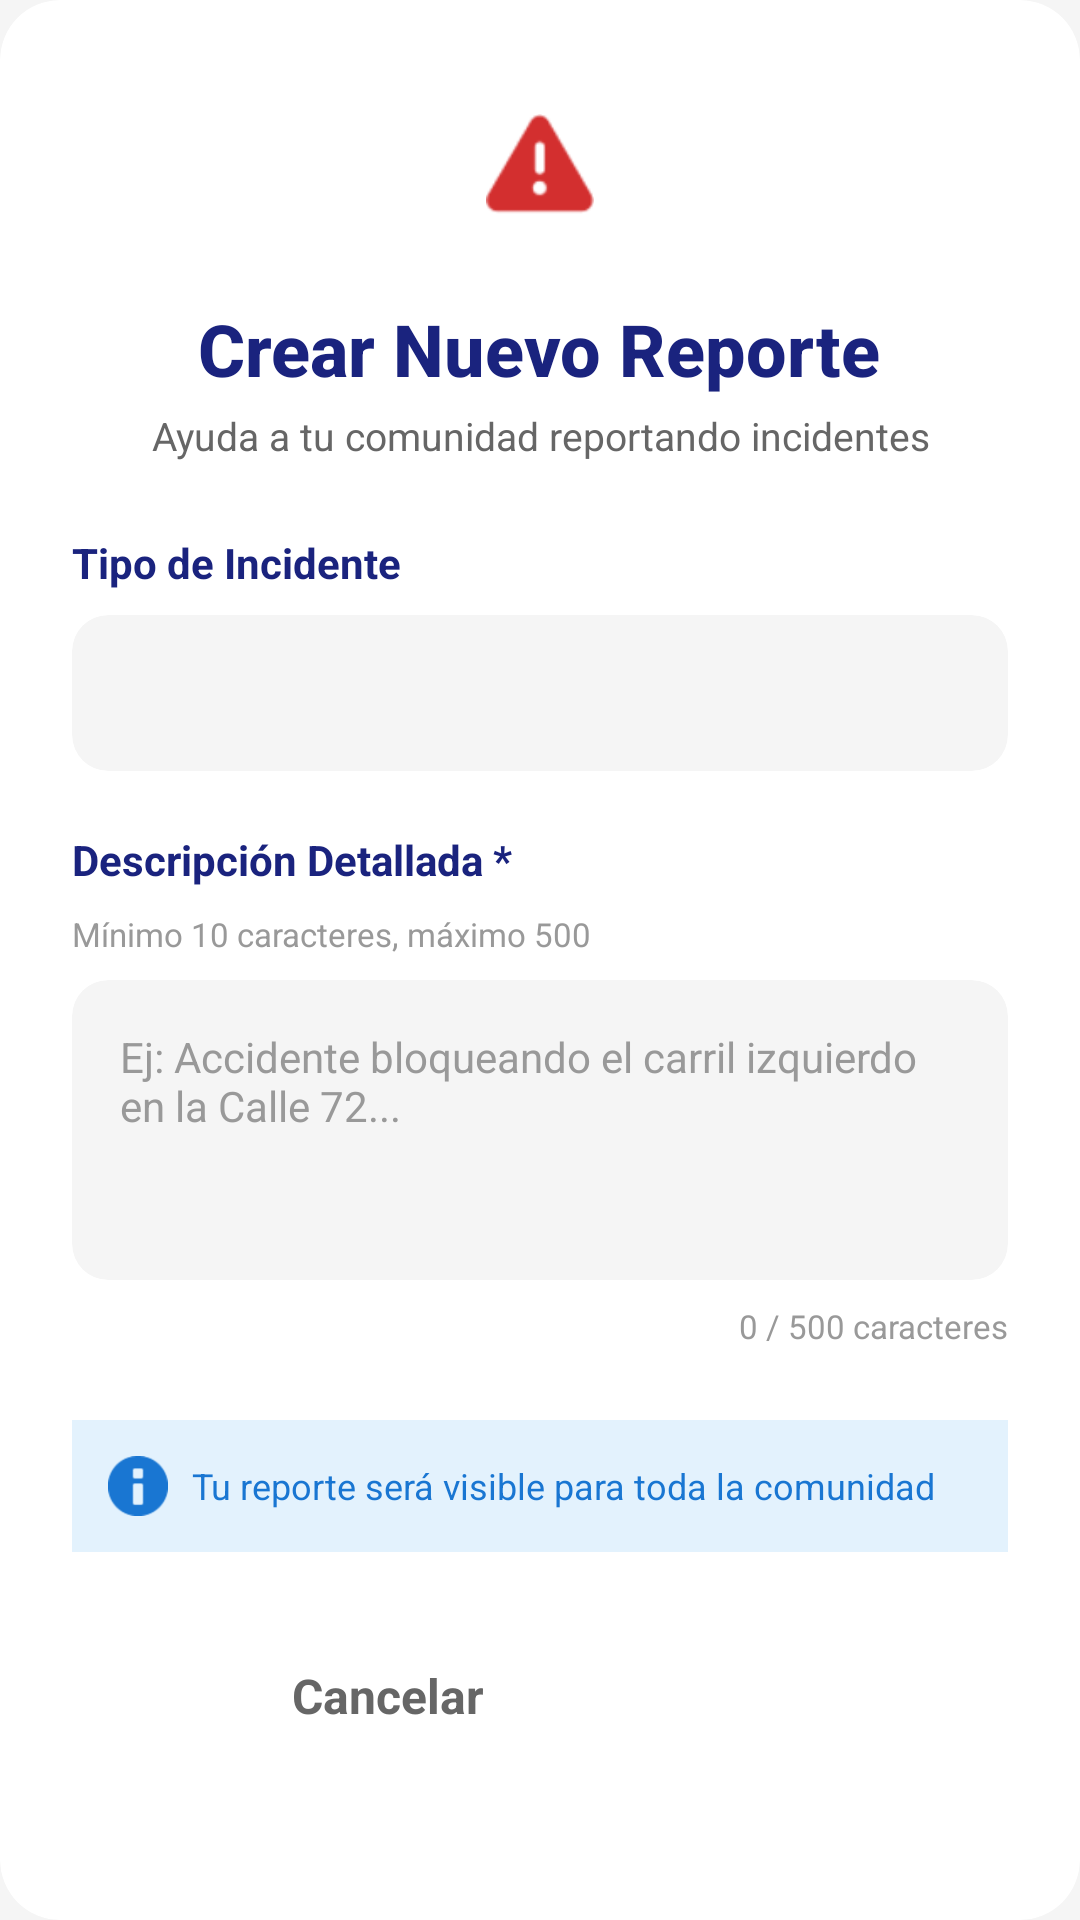

Icons on this 1080*1920 Android screen, each with the point to tap as (x=x, y=y):
alert: (x=540, y=163)
info: (x=138, y=1486)
